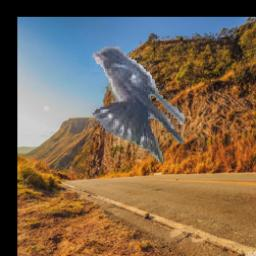Swallow: (91, 46, 186, 163)
